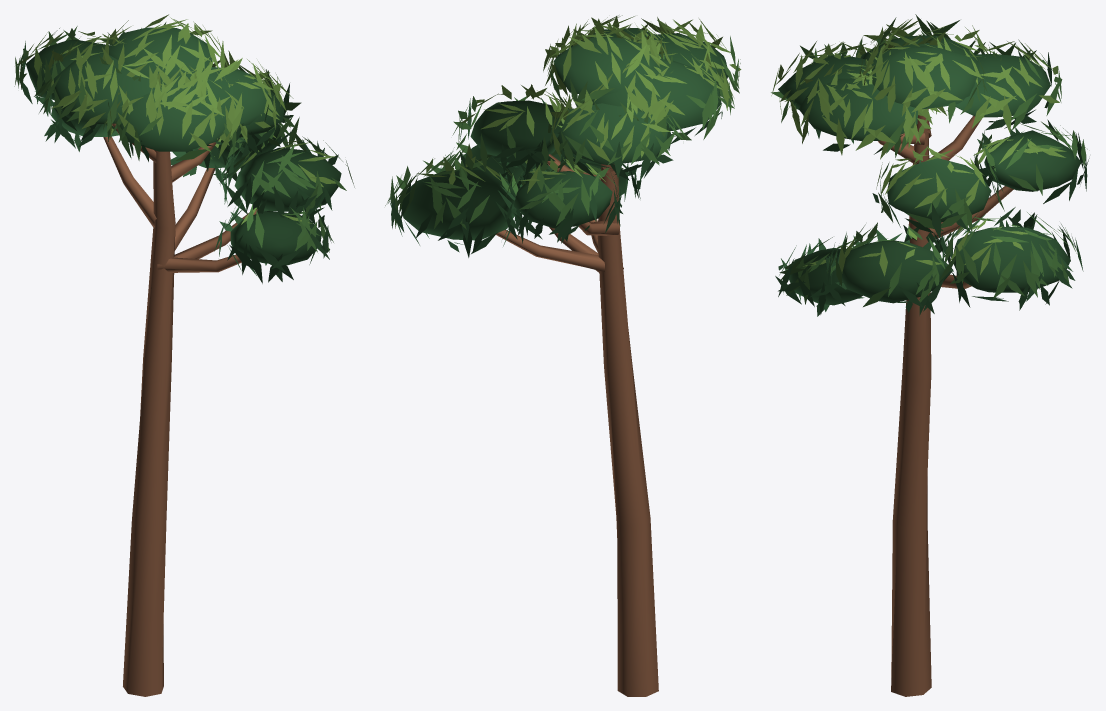
Rendered from PineB.glb.
3 views of the same model, side by side, from view 1: azimuth 30°, elevation 25°; view 2: azimuth 150°, elevation 25°; view 3: azimuth 270°, elevation 25° (orthographic).
Visible parts, largest first — view 1: PineB.needleDark, PineB.bark, PineB.needleLight, PineB.needleMid; view 2: PineB.needleDark, PineB.bark, PineB.needleLight, PineB.needleMid; view 3: PineB.needleDark, PineB.bark, PineB.needleLight, PineB.needleMid.
Boxes of the visible parts, x1,y1,x2,y2 form: PineB.needleDark: (18,27,341,283); PineB.bark: (103,123,257,696); PineB.needleLight: (17,14,335,224); PineB.needleMid: (14,22,354,252); PineB.needleDark: (388,28,728,257); PineB.bark: (496,154,658,696); PineB.needleLight: (417,15,741,193); PineB.needleMid: (385,36,740,229); PineB.needleDark: (775,35,1089,316); PineB.bark: (878,108,1013,696); PineB.needleLight: (771,18,1066,276); PineB.needleMid: (771,14,1087,306).
Bounding box in the file's own units: 15.57 × 34.23 × 15.15.
